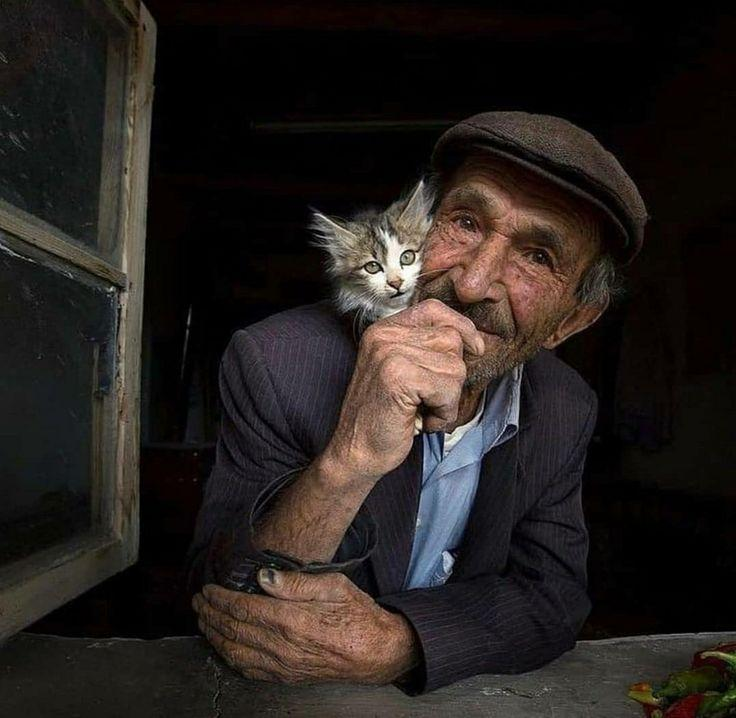kedo: (300, 172, 446, 348)
